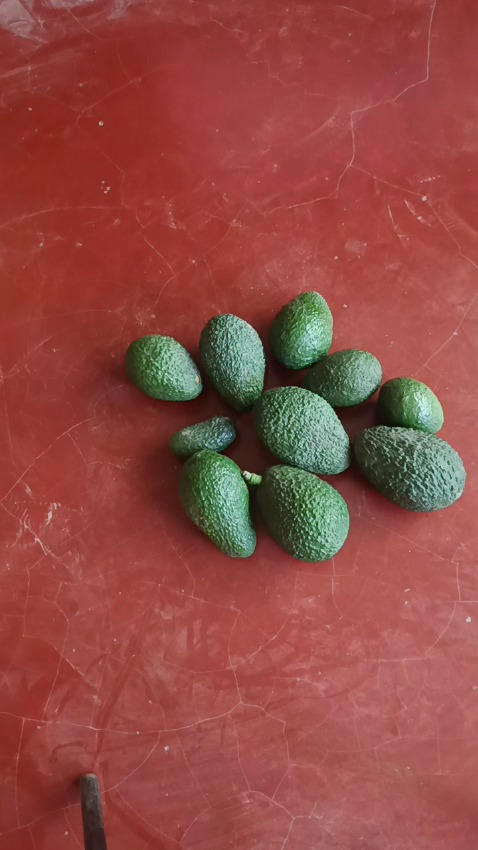Primera: (352, 426, 465, 511), (256, 464, 350, 559), (252, 385, 350, 474), (177, 449, 256, 557), (198, 314, 266, 411)
Segunda: (124, 335, 203, 402), (268, 291, 333, 370)
Tercera: (300, 350, 383, 408), (375, 377, 443, 433), (170, 416, 239, 461)
